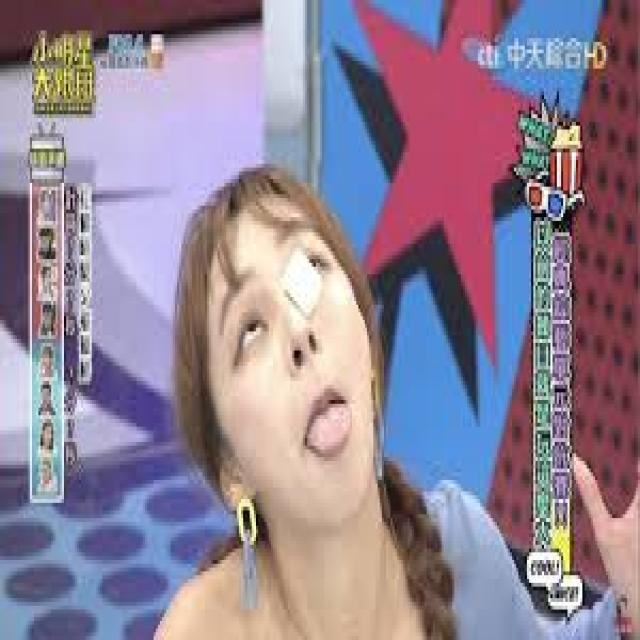tongue: (306, 403, 352, 455)
